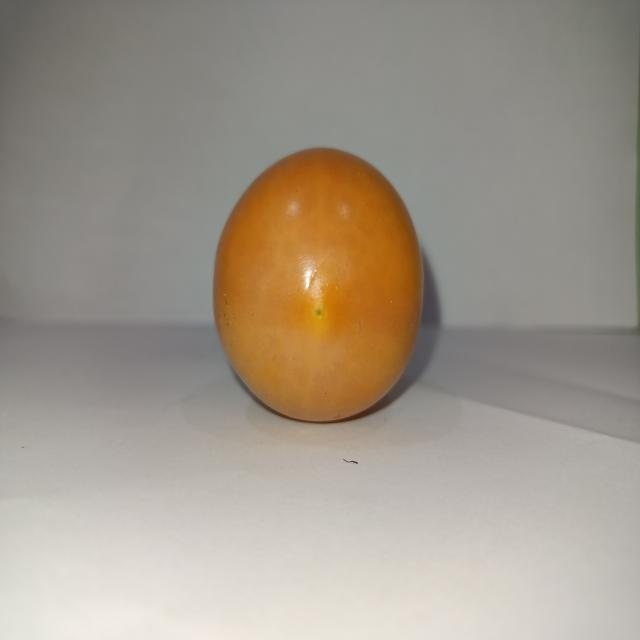Red: (211, 145, 425, 423)
